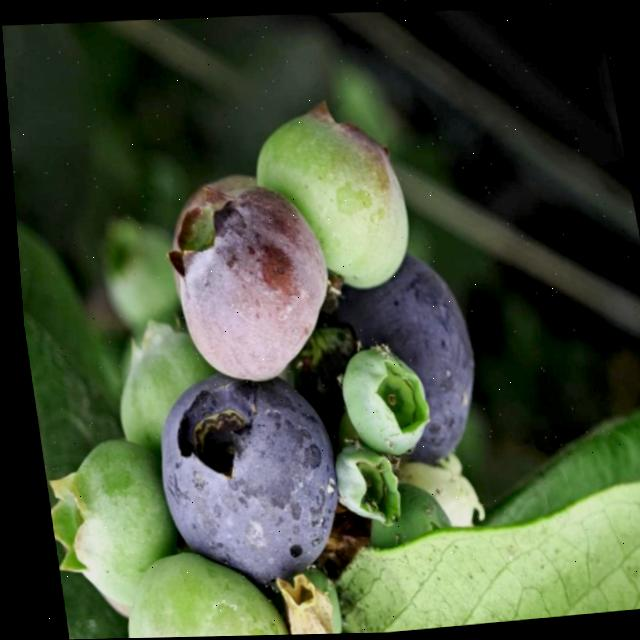RipeBlueBerry: (133, 357, 351, 596), (324, 246, 490, 466)
Semi-RipeBlueBerry: (152, 166, 348, 397)
UnripeBlueBerry: (242, 85, 423, 300), (39, 426, 182, 613), (101, 537, 283, 639), (328, 332, 434, 462)
